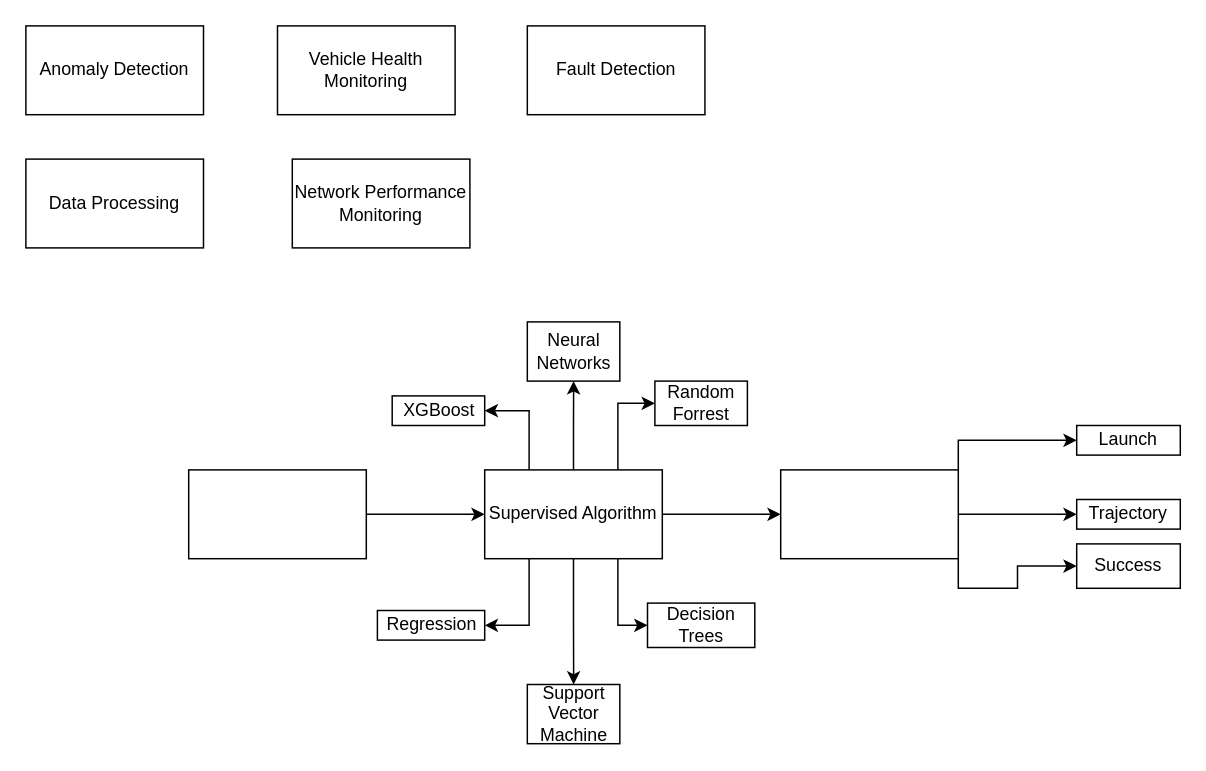
Some shapes in this 1206 by 771 pixel diagram are drawn without their labels. Each missing label, with the centre of its shape:
"Machine Learning" belongs at pixel 276 513.
"Predictions" belongs at pixel 868 513.
